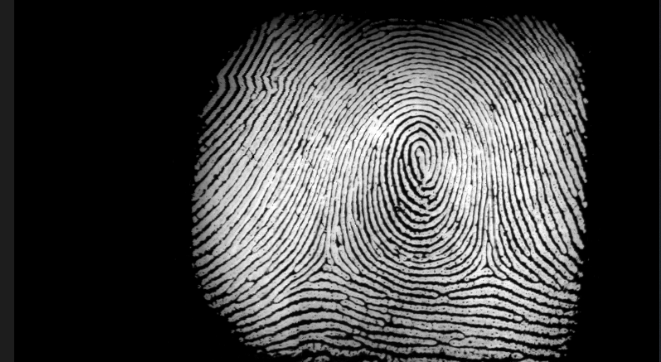nucelo: (407, 132, 438, 188)
verticilo: (468, 252, 508, 283), (307, 250, 343, 283)
